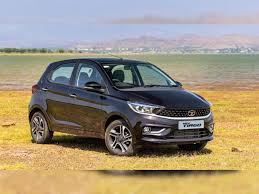Tiago: (27, 56, 215, 157)
